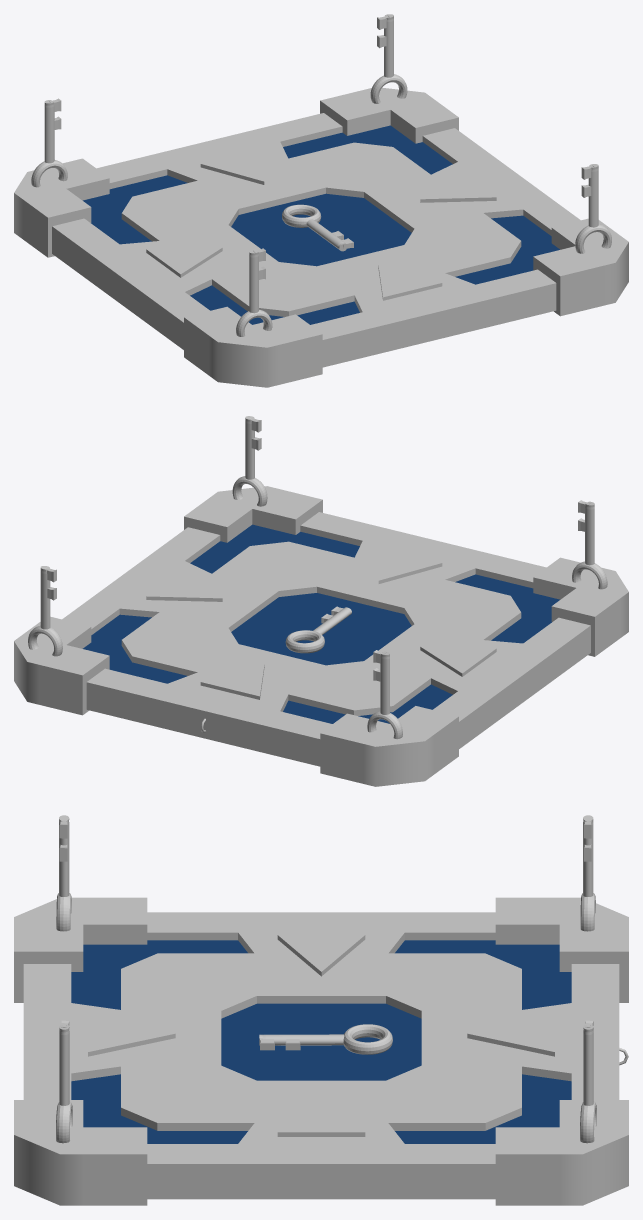
File: keypad.obj
3 views of the same model, one above another, from view 1: azimuth 30°, elevation 25°; view 2: azimuth 150°, elevation 25°; view 3: azimuth 270°, elevation 25° (orthographic). The views are drawn at different scales.
Visible parts, largest first — view 1: jump, Torus.004, Cylinder.001, Cylinder.003, Cylinder.002, Cylinder, Torus, Torus.003; view 2: jump, Torus.004, Cylinder.002, Cylinder, Cylinder.001, Cylinder.003, Torus.003, Torus; view 3: jump, Torus.004, Cylinder, Cylinder.003, Cylinder.004, Cylinder.001, Cylinder.002, Torus, Torus.003, Torus.002, Torus.001.
Part boxes in pixels (left/top/right/bottom): jump: left=14, top=87, right=628, bottom=387; Torus.004: left=282, top=204, right=321, bottom=227; Cylinder.001: left=44, top=100, right=54, bottom=163; Cylinder.003: left=588, top=164, right=598, bottom=227; Cylinder.002: left=249, top=249, right=258, bottom=313; Cylinder: left=384, top=14, right=393, bottom=77; Torus: left=370, top=74, right=407, bottom=103; Torus.003: left=575, top=224, right=611, bottom=253; jump: left=14, top=486, right=628, bottom=786; Torus.004: left=285, top=630, right=324, bottom=653; Cylinder.002: left=585, top=501, right=594, bottom=565; Cylinder: left=40, top=566, right=50, bottom=629; Cylinder.001: left=380, top=651, right=389, bottom=714; Cylinder.003: left=245, top=416, right=254, bottom=479; Torus.003: left=232, top=476, right=267, bottom=506; Torus: left=28, top=625, right=62, bottom=656; jump: left=14, top=897, right=628, bottom=1205; Torus.004: left=343, top=1024, right=392, bottom=1054; Cylinder: left=583, top=1025, right=593, bottom=1105; Cylinder.003: left=59, top=1025, right=69, bottom=1105; Cylinder.004: left=259, top=1034, right=344, bottom=1045; Cylinder.001: left=583, top=815, right=593, bottom=896; Cylinder.002: left=59, top=815, right=69, bottom=896; Torus: left=580, top=1101, right=596, bottom=1143; Torus.003: left=56, top=1101, right=72, bottom=1143; Torus.002: left=56, top=893, right=71, bottom=931; Torus.001: left=580, top=893, right=595, bottom=931.
Bounding box in the file's own units: 7.41 × 2.12 × 7.5.
